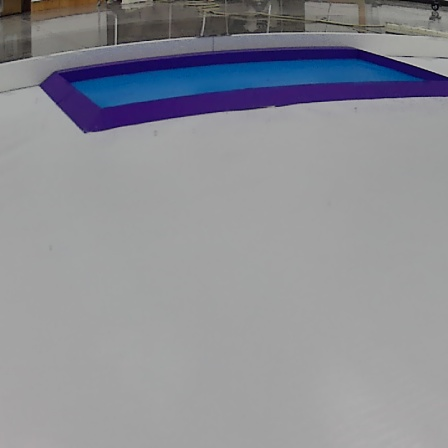blue_aim: (33, 42, 448, 134)
